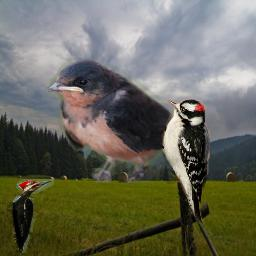Swallow: (46, 58, 210, 183)
Woodpecker: (160, 99, 210, 224), (7, 179, 54, 253)
